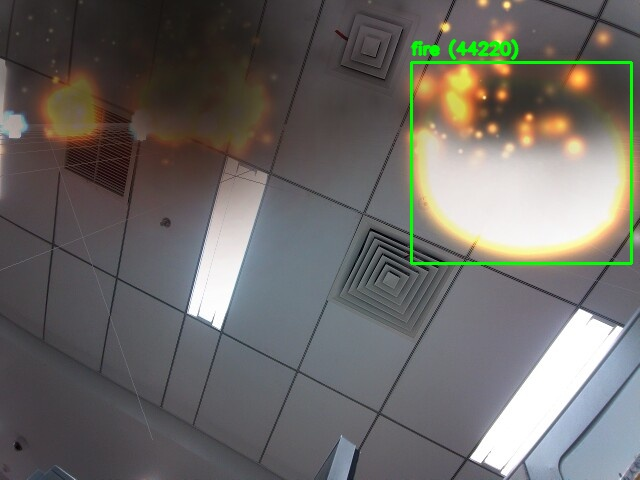fire: (411, 62, 631, 263)
